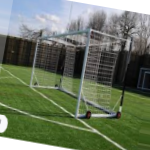goals: (28, 27, 127, 123)
